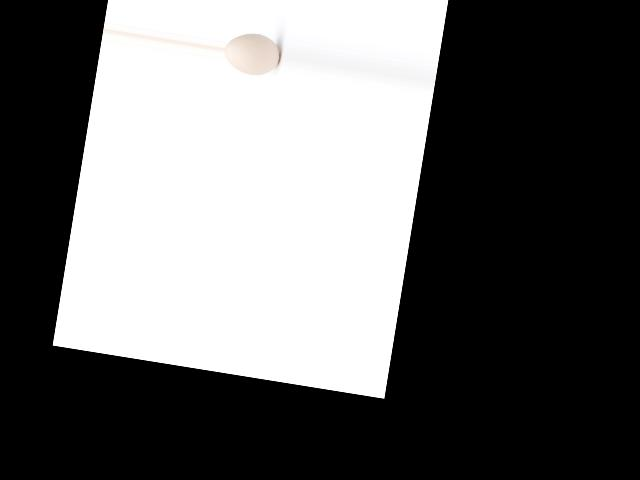egg: (222, 29, 283, 78)
